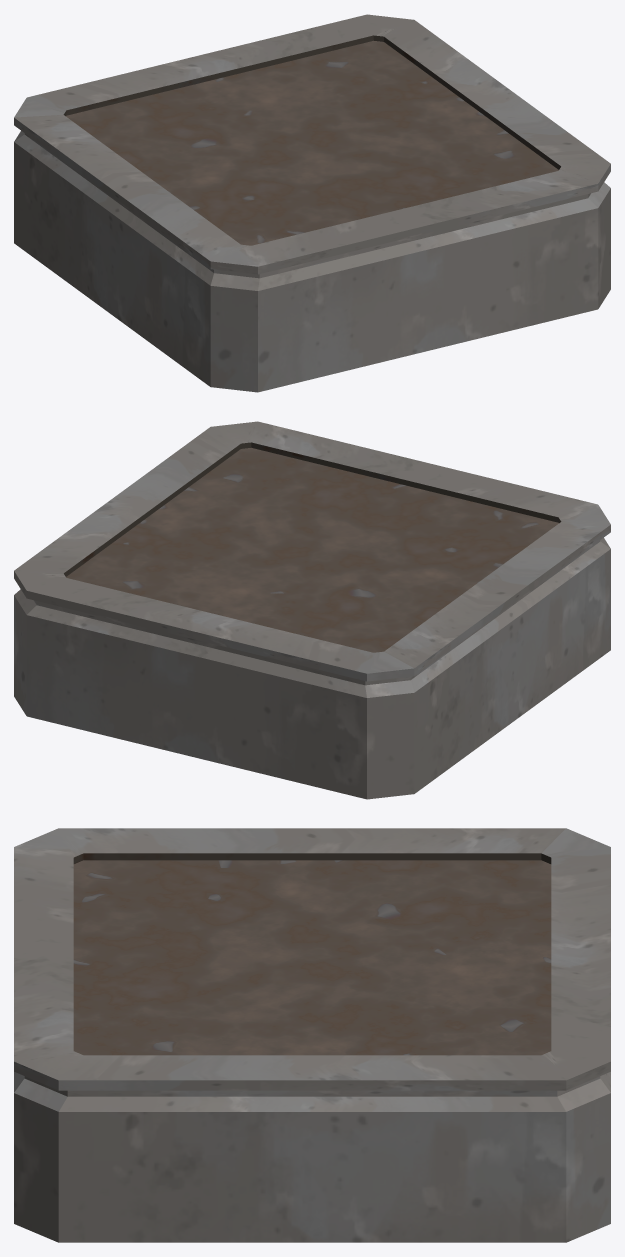
File: prop_planter_single.glb
3 renders of one model, top to bottom at view 1: azimuth 30°, elevation 25°; view 2: azimuth 150°, elevation 25°; view 3: azimuth 270°, elevation 25°, orthographic. The views are drawn at different scales.
Visible parts, largest first — view 1: Prop_Planter_Single; view 2: Prop_Planter_Single; view 3: Prop_Planter_Single.
Part boxes in pixels (box(x1,y1,x2,y2)): Prop_Planter_Single: box(14, 14, 610, 392); Prop_Planter_Single: box(14, 421, 610, 799); Prop_Planter_Single: box(14, 828, 610, 1242).
Bounding box in the file's own units: 2 × 0.6 × 2.
Materials: 2 (2 with a texture image).
